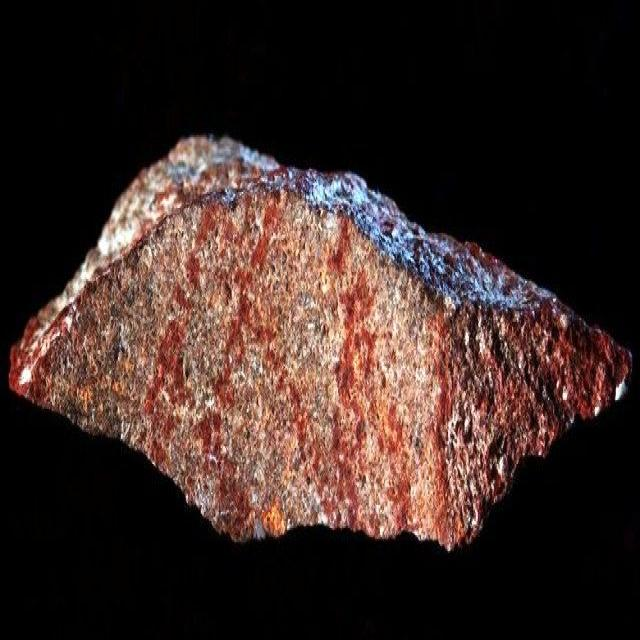Pecahan Agregat: (8, 124, 634, 582)
